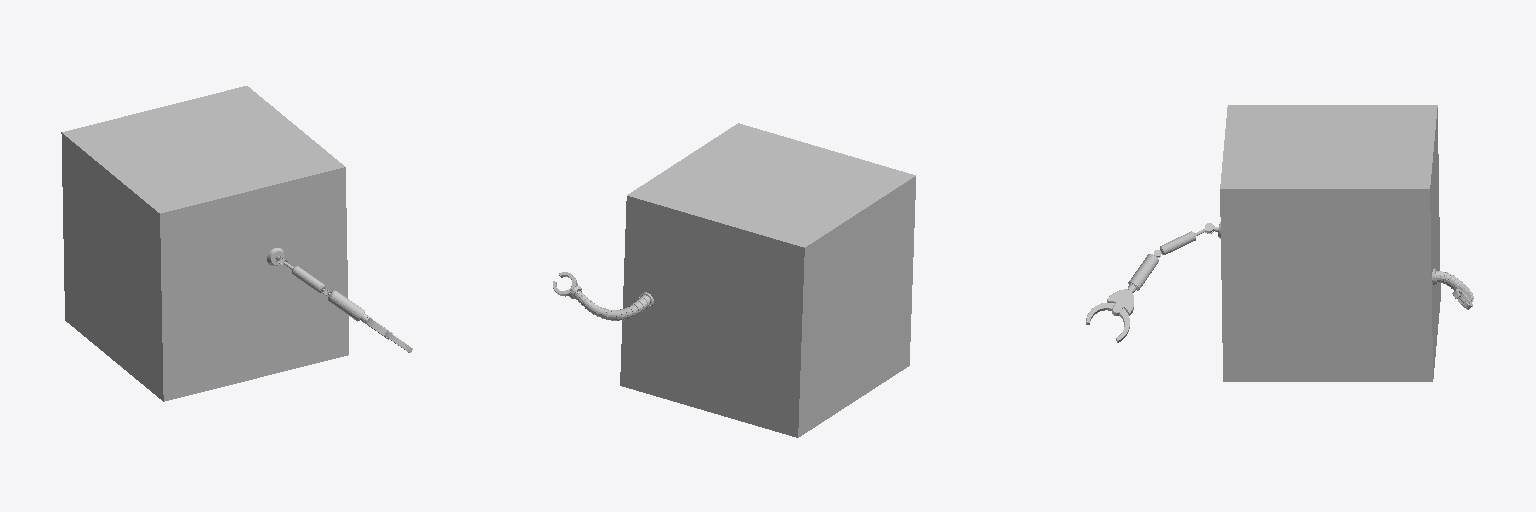
The model's file is enemy.obj.
3 renders of one model, left to right at view 1: azimuth 30°, elevation 25°; view 2: azimuth 150°, elevation 25°; view 3: azimuth 270°, elevation 25°, orthographic.
Visible parts, largest first — view 1: mesh_id27, node_id43_mesh_id44; view 2: mesh_id27, node_id32_mesh_id33; view 3: mesh_id27, node_id43_mesh_id44, node_id32_mesh_id33.
Boxes of the visible parts, box(x1,y1,x2,y2) form: mesh_id27: box(61, 86, 348, 401); node_id43_mesh_id44: box(267, 248, 412, 352); mesh_id27: box(620, 123, 915, 437); node_id32_mesh_id33: box(553, 272, 653, 320); mesh_id27: box(1220, 105, 1440, 381); node_id43_mesh_id44: box(1086, 222, 1220, 342); node_id32_mesh_id33: box(1432, 268, 1473, 309).
Size of the model in its own units: 0.4371 by 0.3397 by 0.6011.